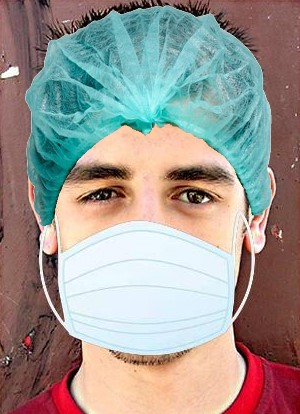with_mask_and_cap: (25, 17, 274, 358)
